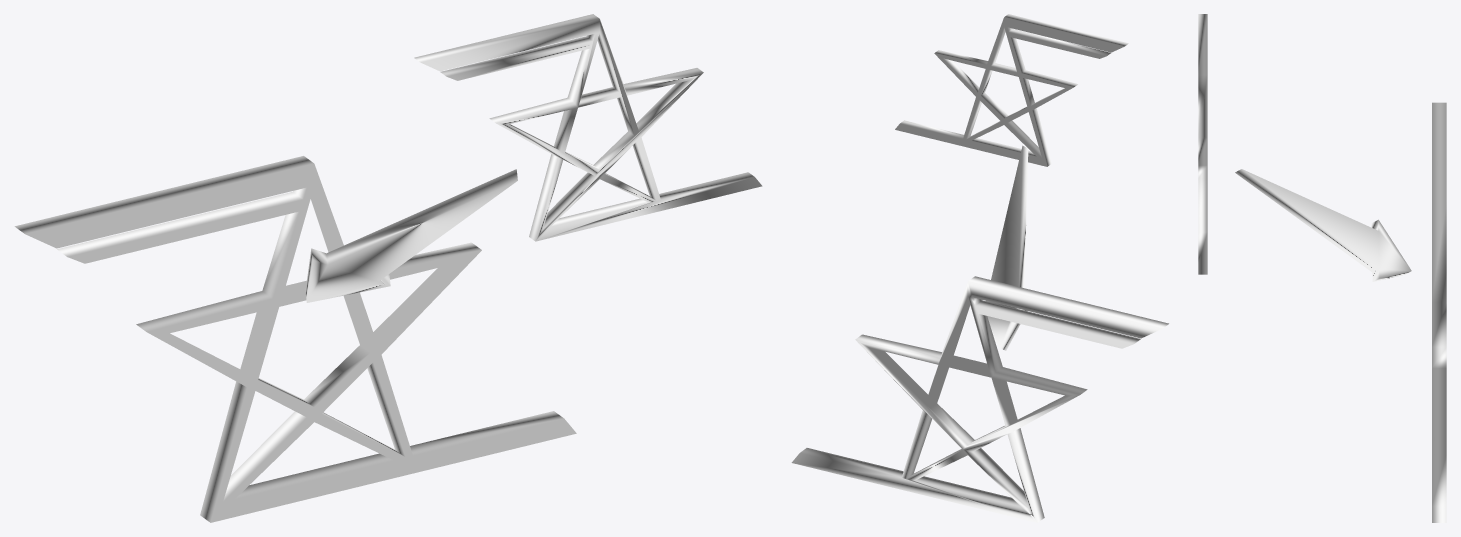
File: memory02.ico.obj
The picture shows the model from 3 angles, left to right: view 1: azimuth 30°, elevation 25°; view 2: azimuth 150°, elevation 25°; view 3: azimuth 270°, elevation 25°; orthographic projection. The views are drawn at different scales.
Size of the model in its own units: 4.9 by 4.7 by 2.65.
Materials: 1 (1 with a texture image).
